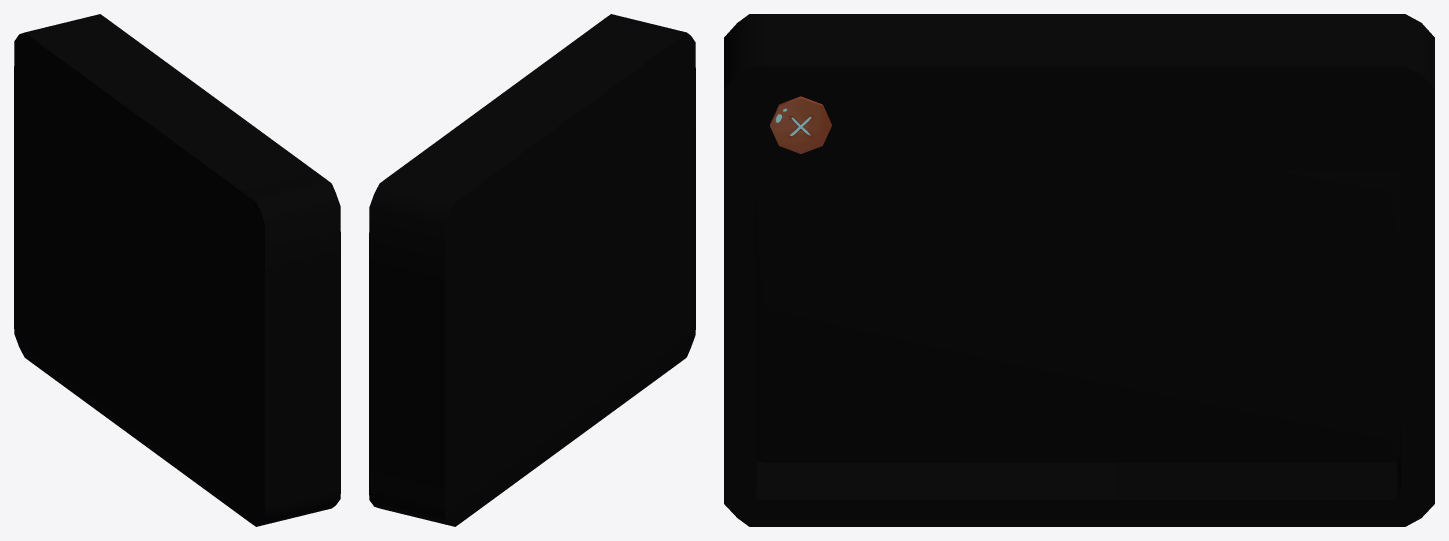
File: pop-up concept.fbx
3 renders of one model, left to right at view 1: azimuth 30°, elevation 25°; view 2: azimuth 150°, elevation 25°; view 3: azimuth 270°, elevation 25°, orthographic. The views are drawn at different scales.
Parts seen in each view (by area): view 1: pop-up_bpdy; view 2: pop-up_bpdy; view 3: pop-up_bpdy, pop-up_button.
Part boxes in pixels (x1,y1,x2,y2): pop-up_bpdy: [14, 14, 340, 526]; pop-up_bpdy: [369, 14, 695, 526]; pop-up_bpdy: [724, 14, 1434, 526]; pop-up_button: [770, 96, 831, 153].
Bounding box in the file's own units: 52.54 × 203 × 284.
